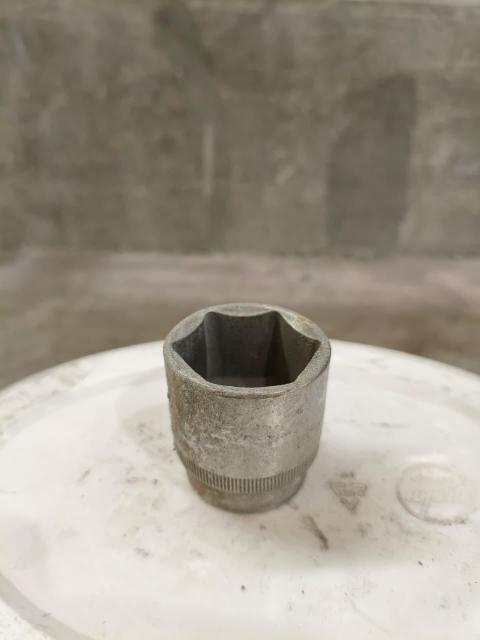Metal: (162, 301, 332, 513)
